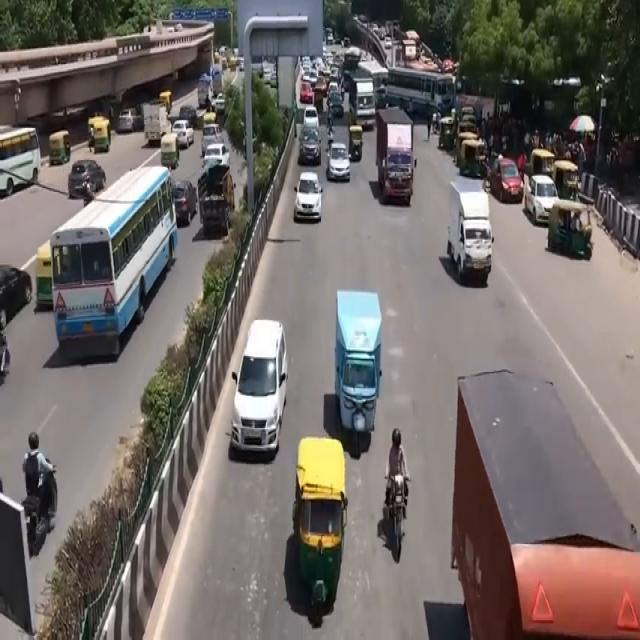BUS: (46, 170, 173, 370), (388, 64, 457, 115), (0, 127, 41, 198), (346, 72, 377, 126)
MOTORCYCLE: (383, 473, 408, 564)
TRUCK: (374, 110, 414, 207), (142, 105, 167, 146)
